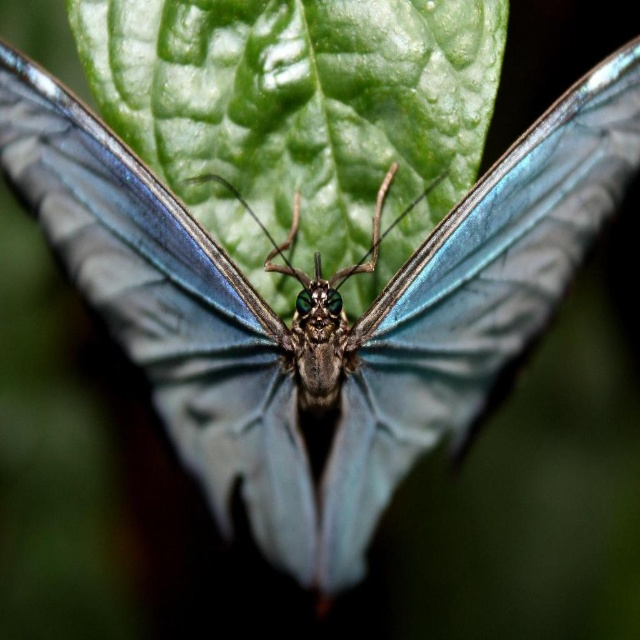Butterfly: (24, 81, 640, 622)
